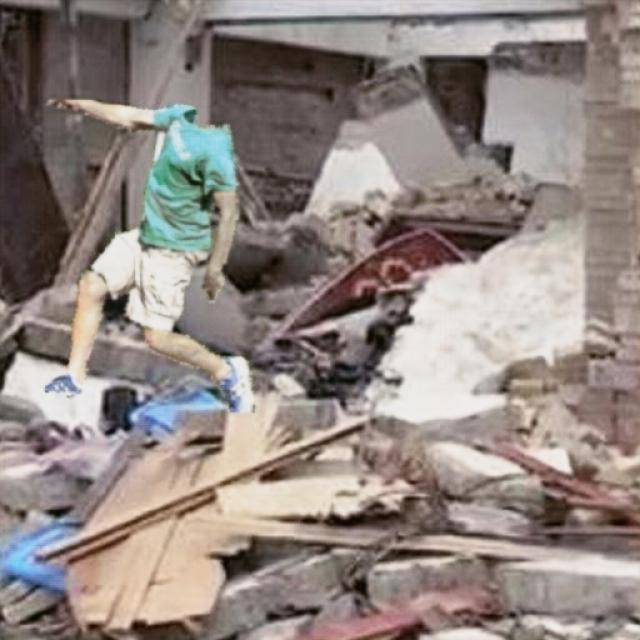Person in Rubble: (44, 100, 254, 411)
